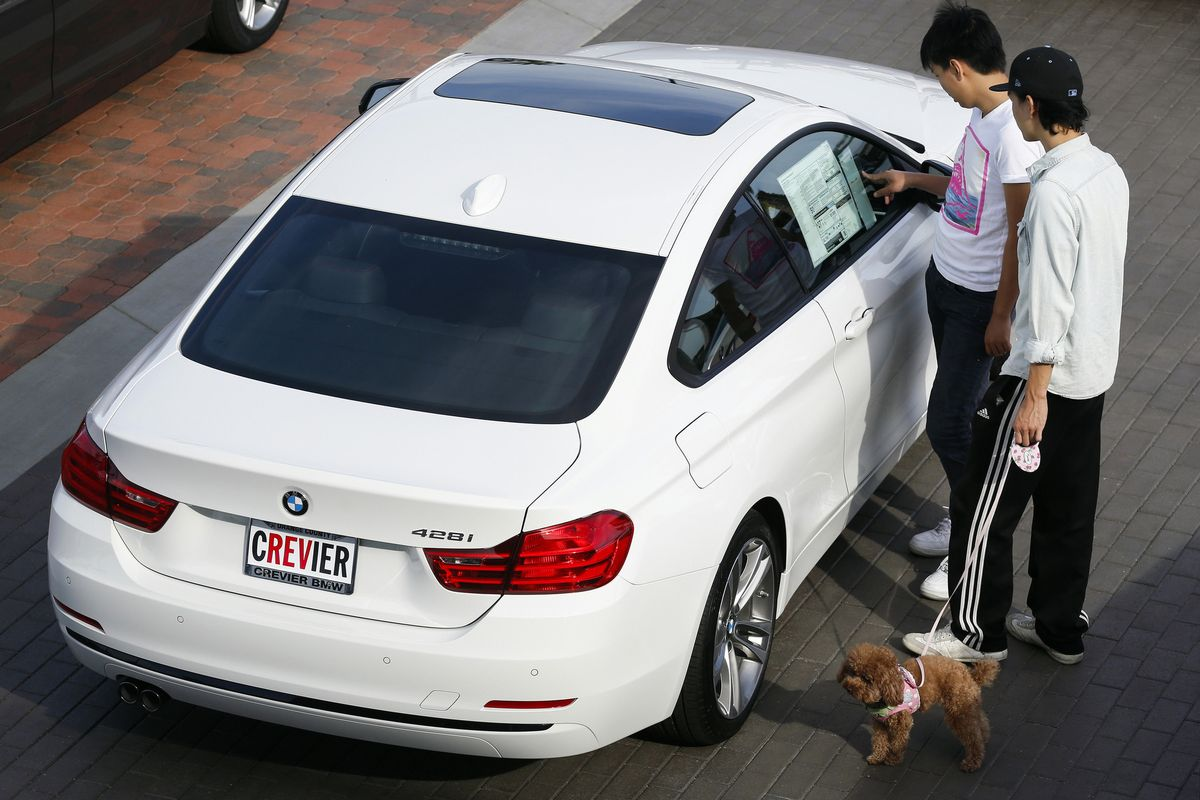license plate: (240, 512, 360, 599)
